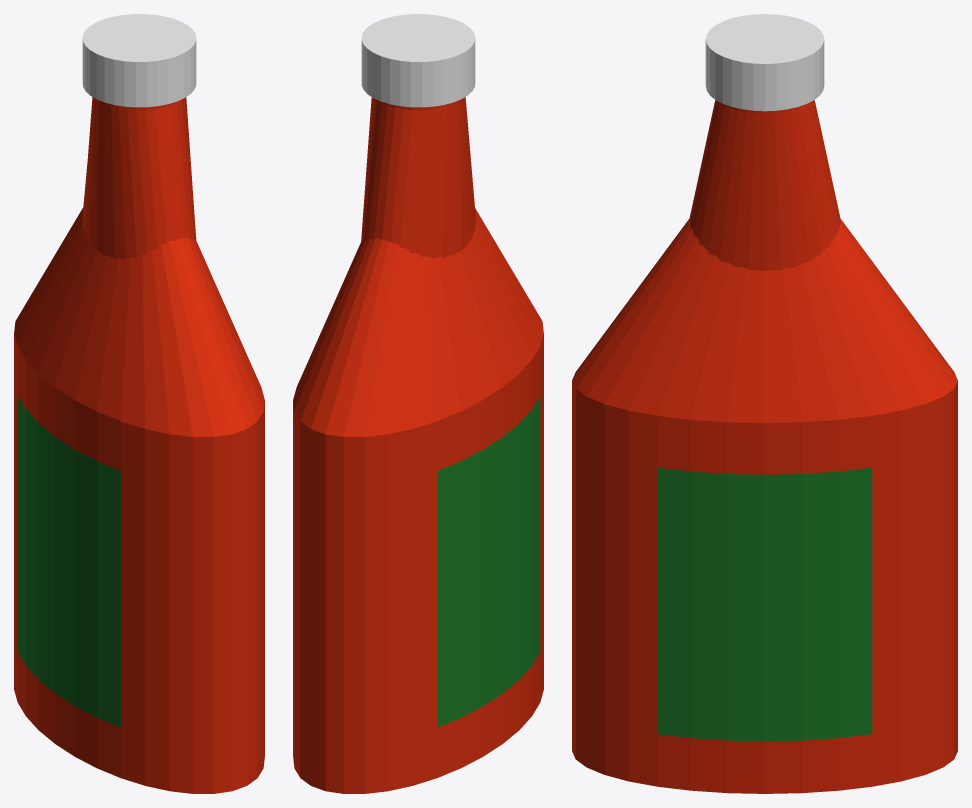
Rendered from KetchupV1.fbx.
3 views of the same model, side by side, from view 1: azimuth 30°, elevation 25°; view 2: azimuth 150°, elevation 25°; view 3: azimuth 270°, elevation 25° (orthographic). The views are drawn at different scales.
Visible parts, largest first — view 1: Cylinder; view 2: Cylinder; view 3: Cylinder.
Boxes of the visible parts, x1,y1,x2,y2 form: Cylinder: (14,14,264,793); Cylinder: (293,14,543,793); Cylinder: (572,14,957,793).
Size of the model in its own units: 149 by 78.33 by 304.
